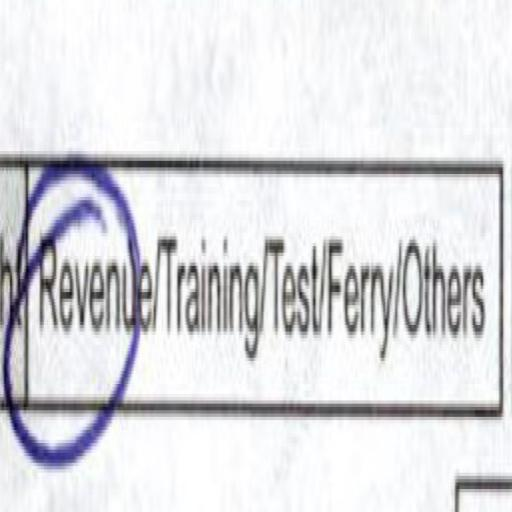check: (22, 120, 140, 486)
